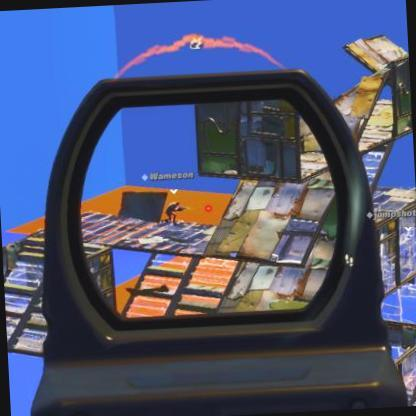person: (168, 199, 182, 223)
